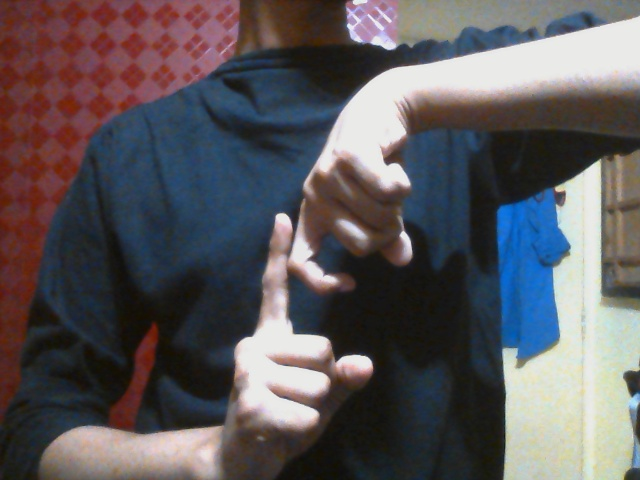K: (230, 153, 410, 453)
